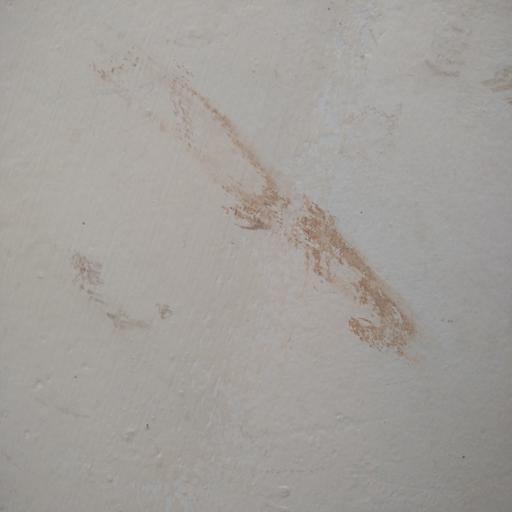stain: (84, 34, 436, 382), (24, 219, 189, 358), (401, 12, 512, 99)
